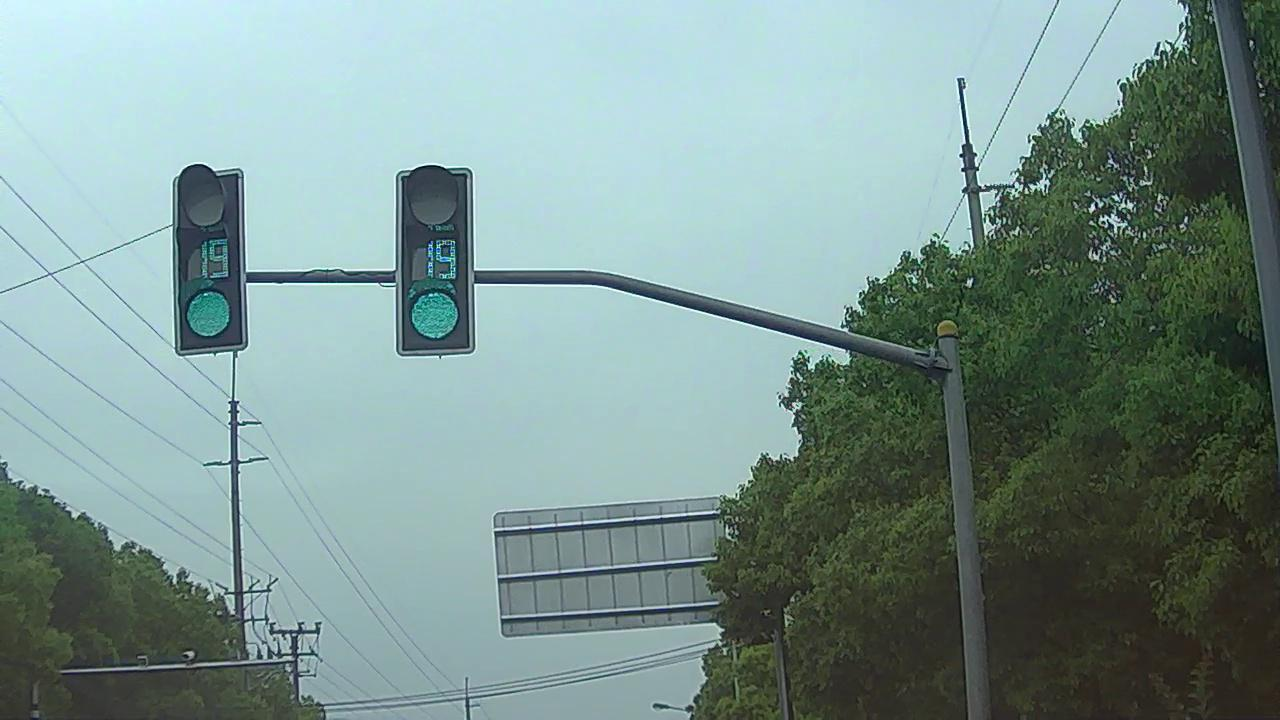traffic_light: (404, 168, 474, 354), (176, 175, 244, 346)
